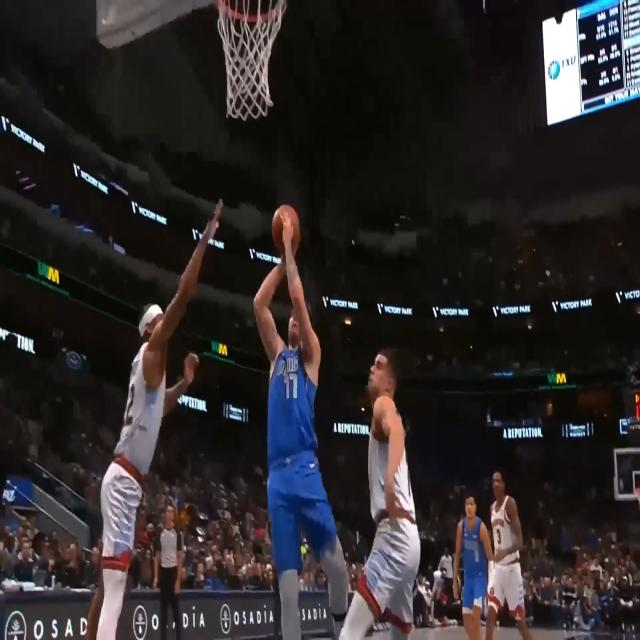Ball: (272, 205, 300, 254)
Clock: (634, 391, 640, 422)
Hoop: (216, 0, 287, 120), (633, 487, 640, 506)
Player: (84, 198, 224, 640), (252, 210, 349, 640), (340, 345, 420, 640), (485, 467, 532, 640), (453, 489, 493, 640)
Ref: (152, 502, 182, 640)
